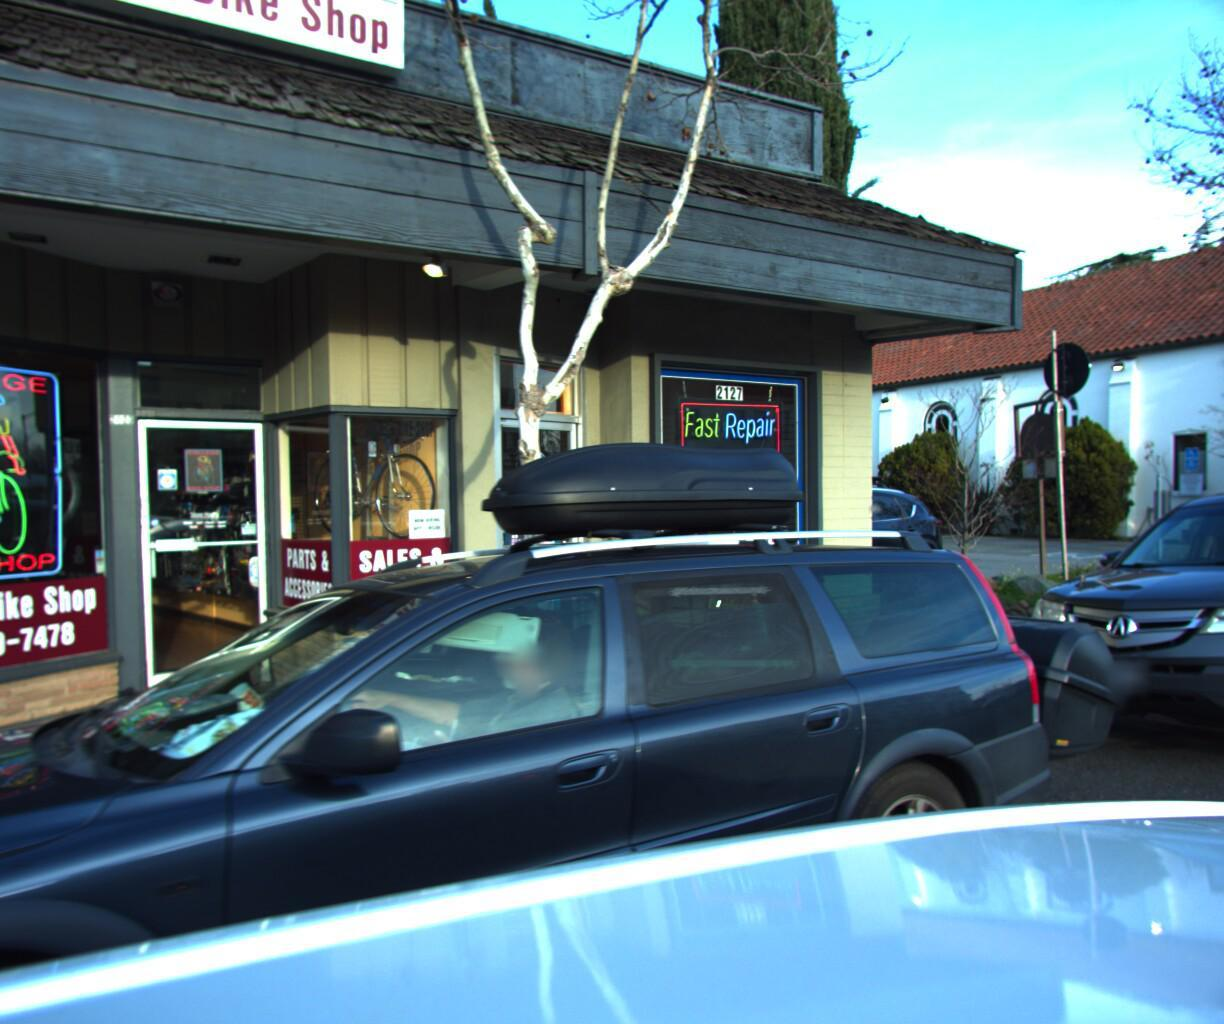car: (0, 371, 1215, 1024), (980, 468, 1224, 833), (676, 481, 965, 619)
